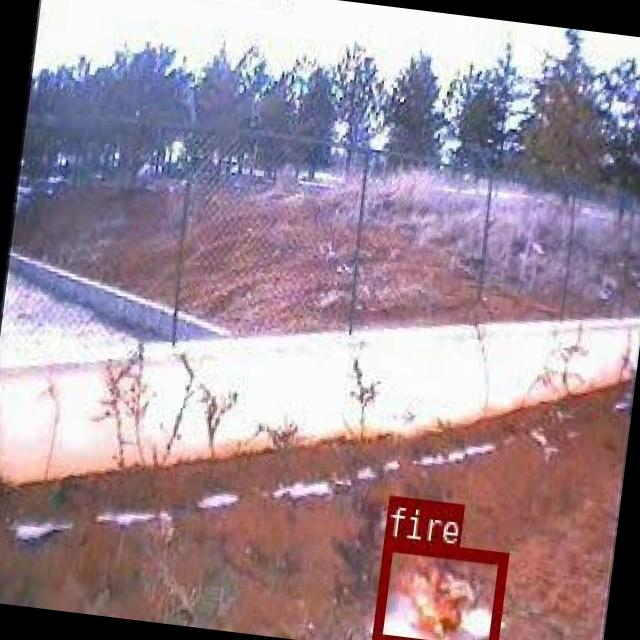fire: (371, 536, 505, 640)
